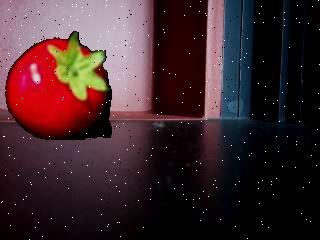Tomato: (2, 30, 112, 140)
